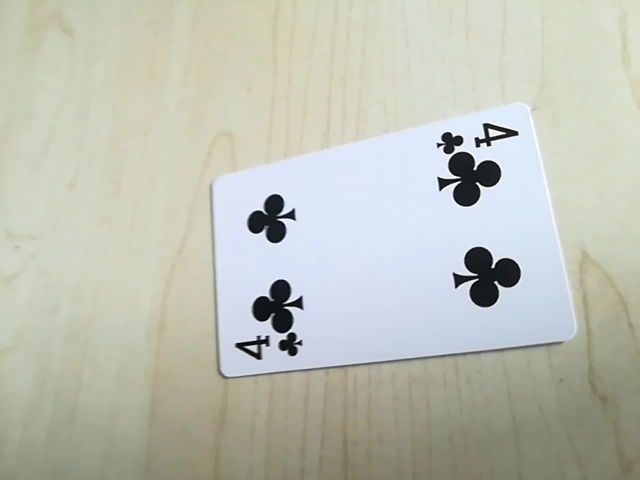mh 4: (227, 329, 306, 368), (435, 119, 522, 153)
